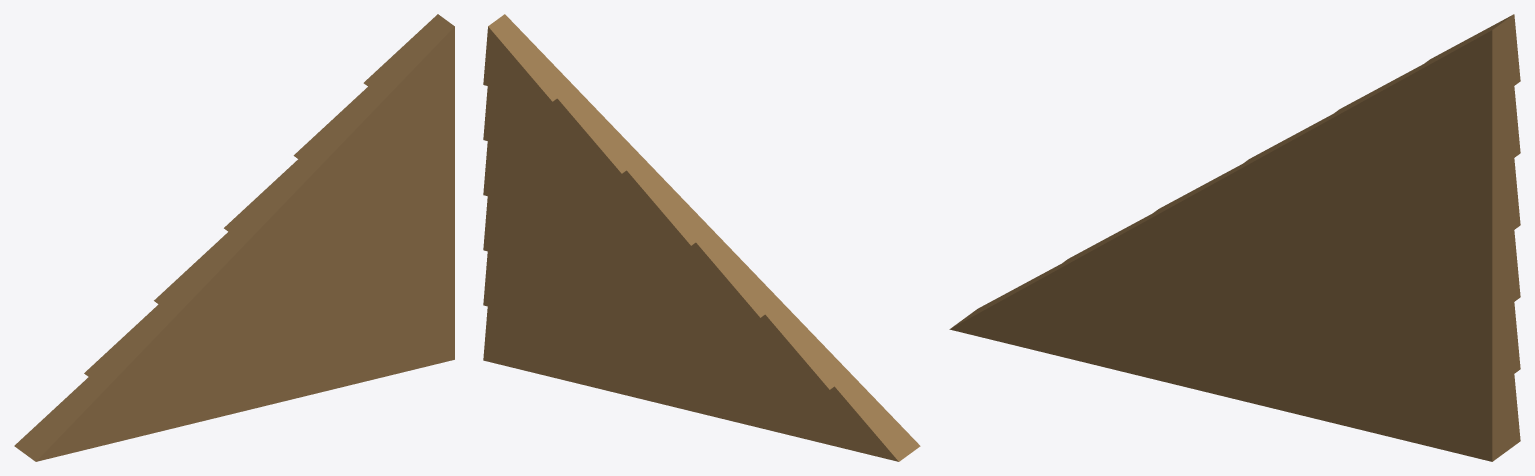
Rendered from cabinSide.fbx.
3 views of the same model, side by side, from view 1: azimuth 30°, elevation 25°; view 2: azimuth 150°, elevation 25°; view 3: azimuth 330°, elevation 25° (orthographic). The views are drawn at different scales.
Visible parts, largest first — view 1: cabinSide; view 2: cabinSide; view 3: cabinSide.
Part boxes in pixels (box(x1,y1,x2,y2)): cabinSide: box(14, 14, 454, 461); cabinSide: box(483, 14, 920, 461); cabinSide: box(949, 14, 1520, 461).
Bounding box in the file's own units: 10 × 7.6 × 0.902.
